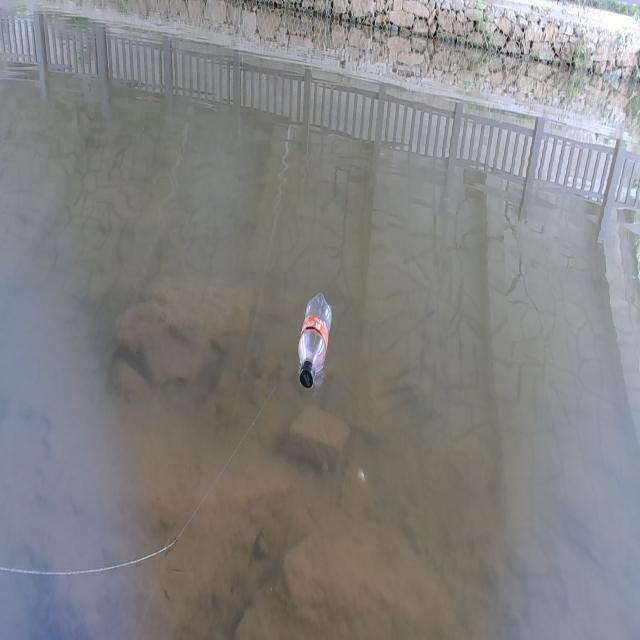bottle: (291, 262, 349, 396)
